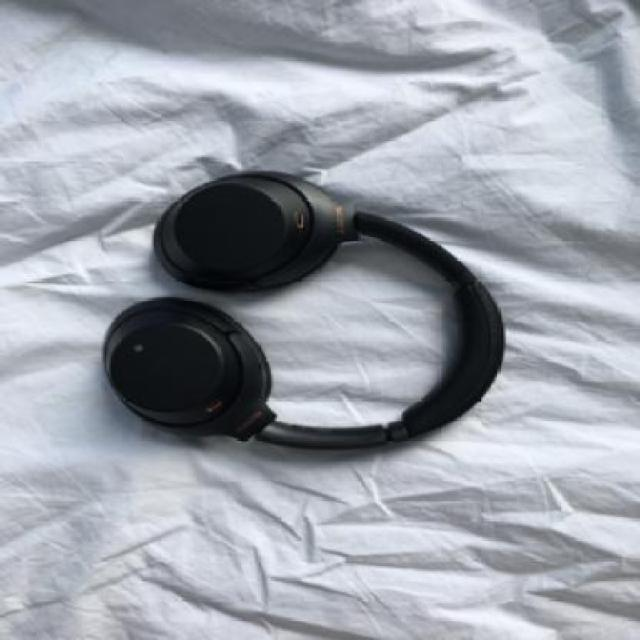earphone: (128, 130, 527, 492)
